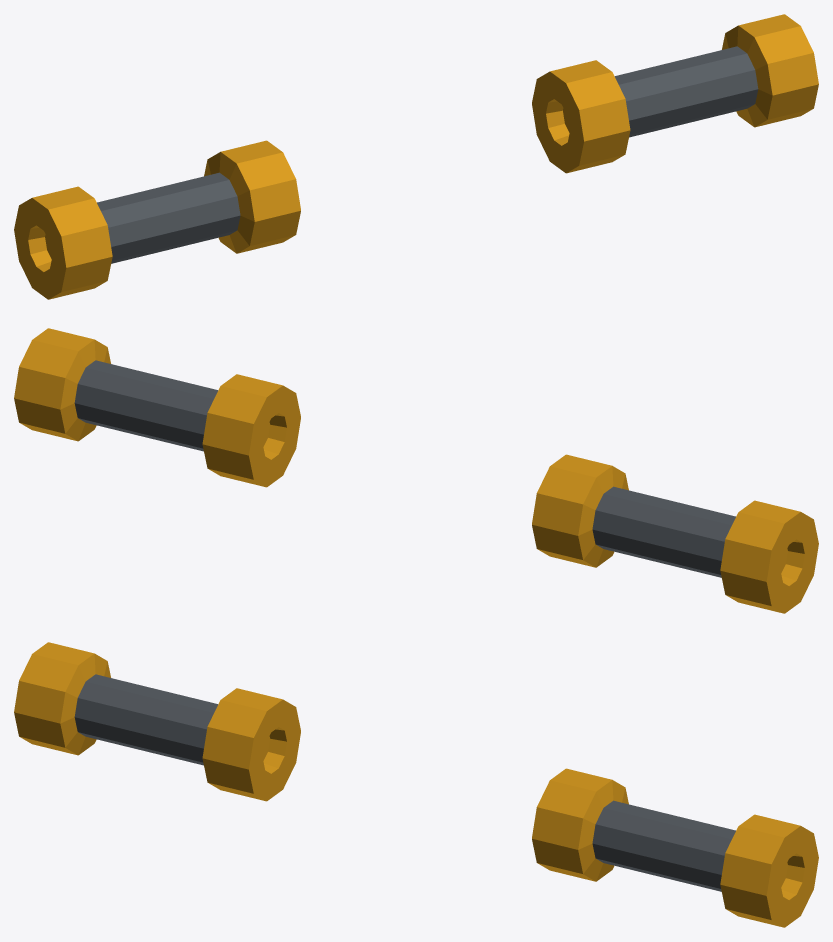
File: Mothership_01_Hinges_Yellow.fbx
3 renders of one model, top to bottom at view 1: azimuth 30°, elevation 25°; view 2: azimuth 150°, elevation 25°; view 3: azimuth 330°, elevation 25°, orthographic.
Visible parts, largest first — view 1: Mothership_01_Hinges_Yellow; view 2: Mothership_01_Hinges_Yellow; view 3: Mothership_01_Hinges_Yellow.
Part boxes in pixels (x1=…): Mothership_01_Hinges_Yellow: x1=14, y1=14, x2=818, y2=299; Mothership_01_Hinges_Yellow: x1=14, y1=328, x2=818, y2=613; Mothership_01_Hinges_Yellow: x1=14, y1=642, x2=818, y2=927.
Size of the model in its own units: 965 by 111 by 116.
Materials: 1 (1 with a texture image).
